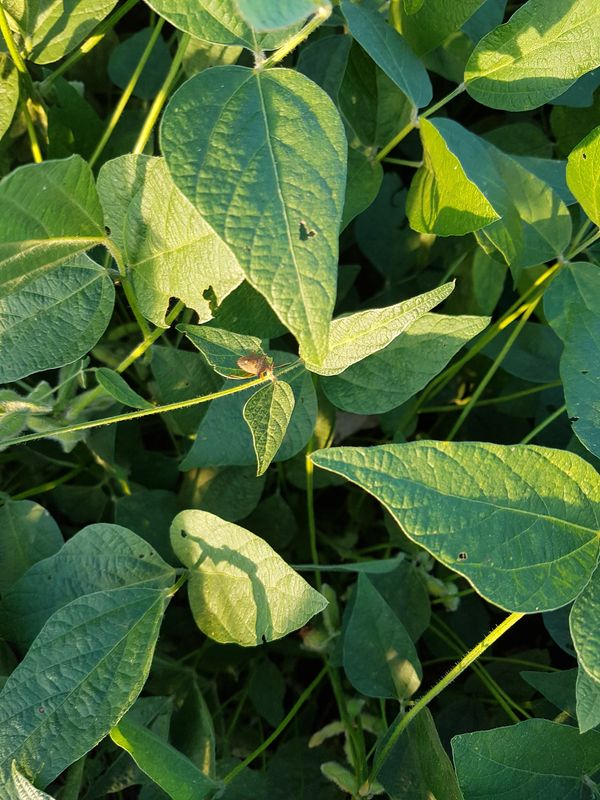Euschistus_heros_adulto: (224, 345, 281, 388)
